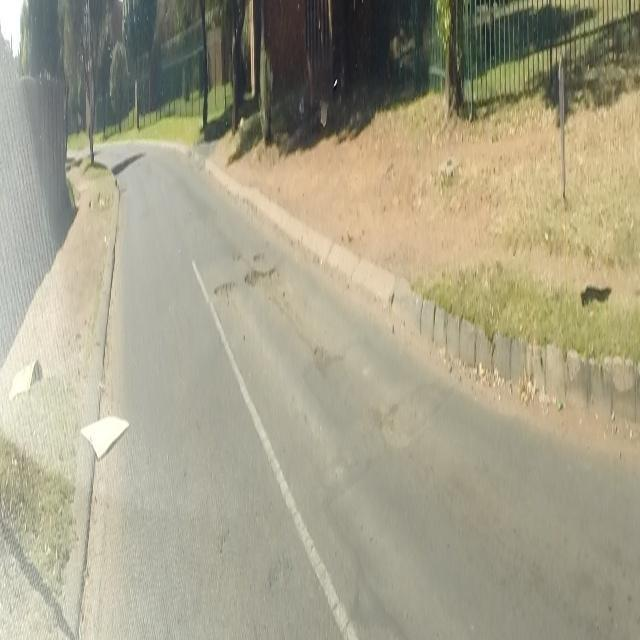pothole: (213, 263, 285, 303), (314, 333, 326, 357)
